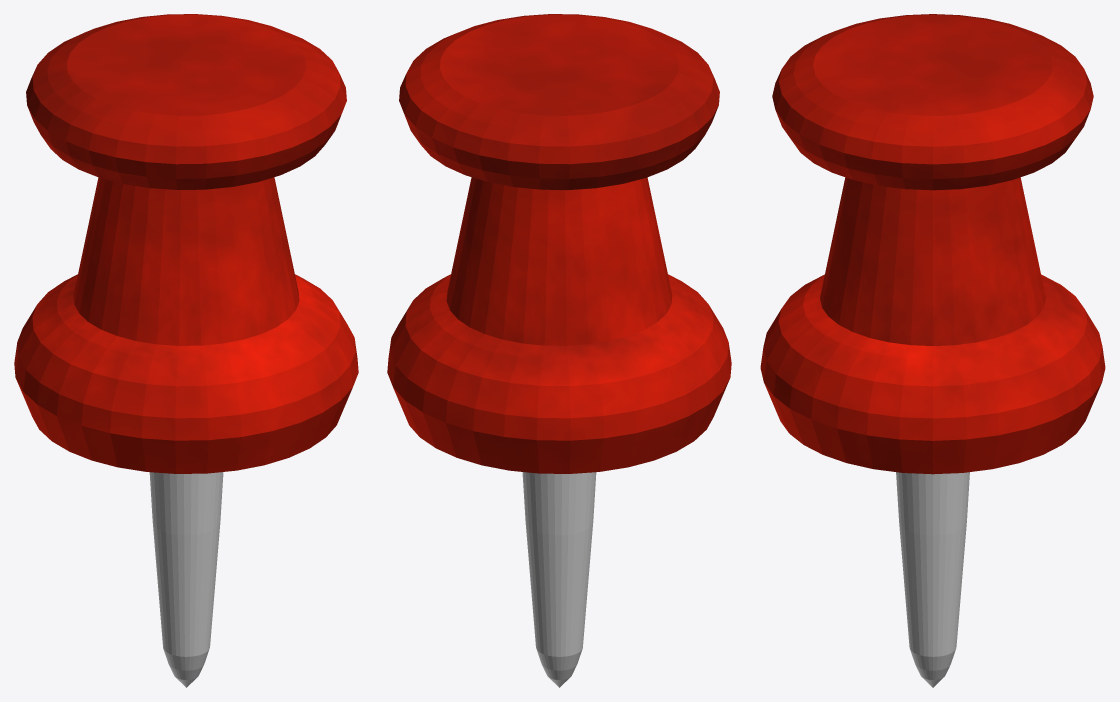
Rendered from pin.obj.
3 views of the same model, side by side, from view 1: azimuth 30°, elevation 25°; view 2: azimuth 150°, elevation 25°; view 3: azimuth 270°, elevation 25° (orthographic).
Visible parts, largest first — view 1: Cylinder; view 2: Cylinder; view 3: Cylinder.
Part boxes in pixels (x1,y1,x2,y2): Cylinder: (14,14,358,687); Cylinder: (387,14,731,687); Cylinder: (760,14,1105,687).
Bounding box in the file's own units: 2.4 × 4.78 × 2.4.
1 material, 1 textured.
